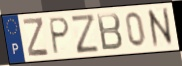0: (124, 11, 148, 50)
B: (95, 11, 124, 52)
N: (145, 6, 176, 50)
P: (48, 16, 71, 56)
Z: (70, 13, 101, 56), (22, 16, 50, 58)
